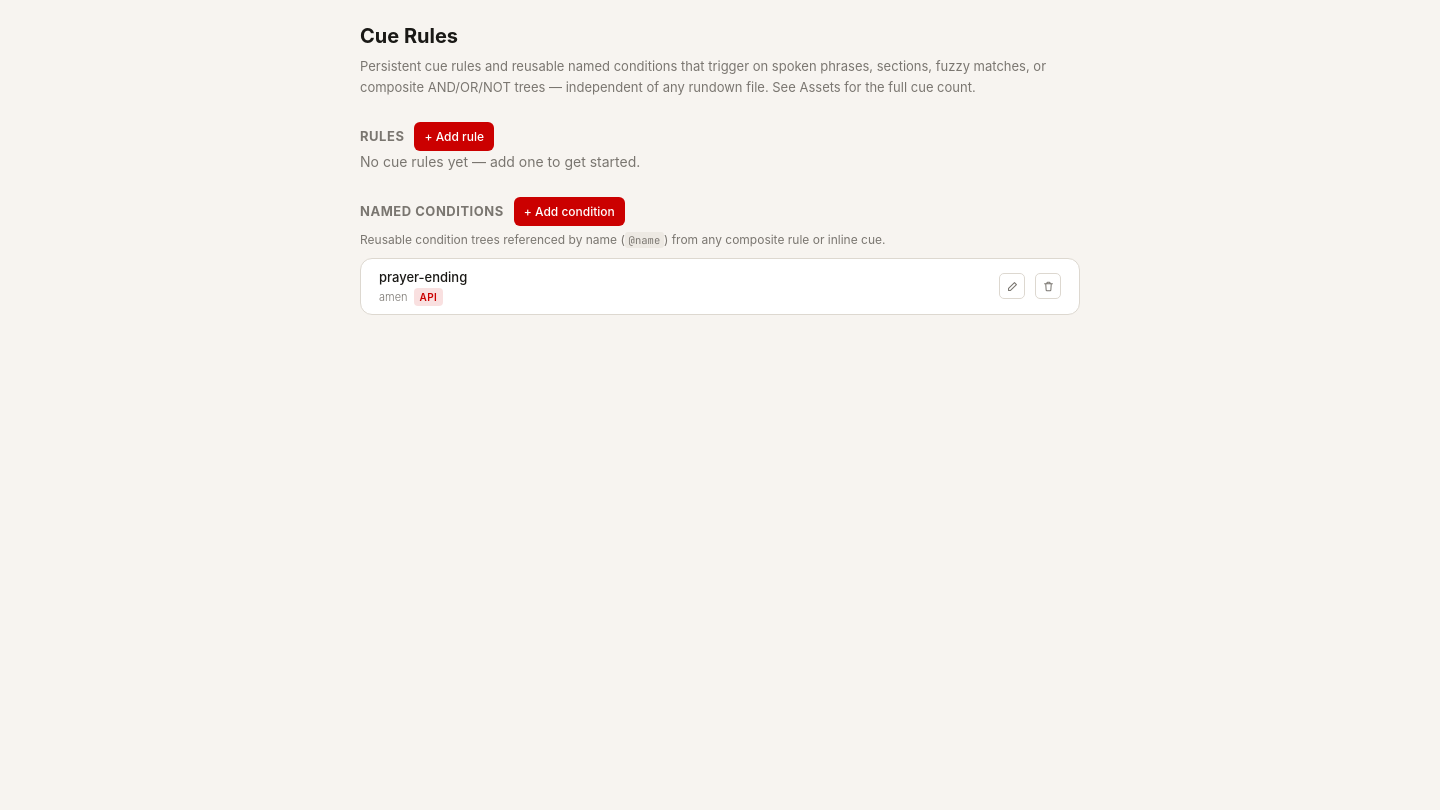
Test: CuesManager — Named Conditions › the name field is locked when editing an existing named condition
The image size is (1440, 810).
Check: the text "prayer-ending" is shown, box [379,268,467,284]
Click the button titled "Settings" at (1012, 286), box [999,273,1025,299]
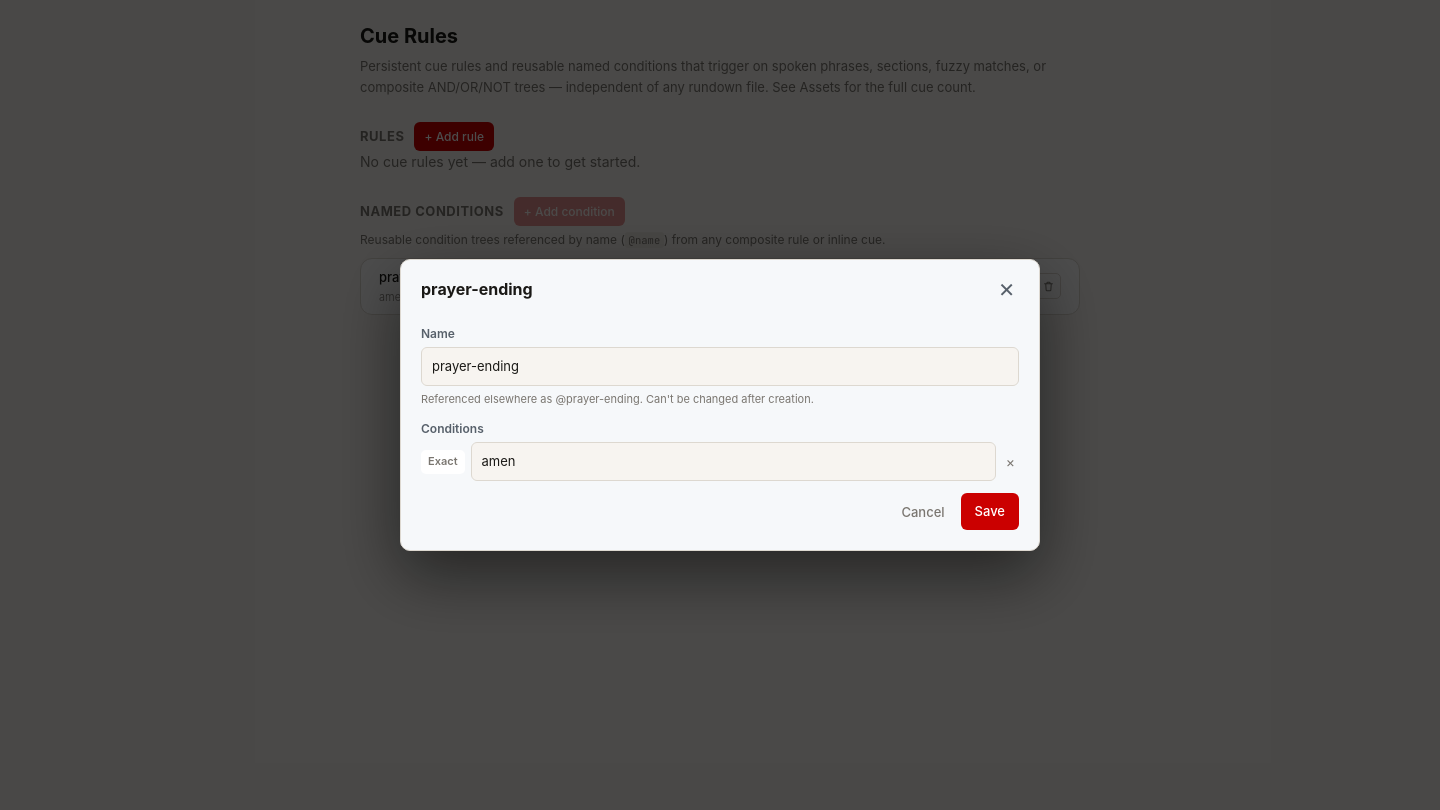
Check: the 1st field showing "prayer-ending" is disabled, box [421,347,1019,386]
